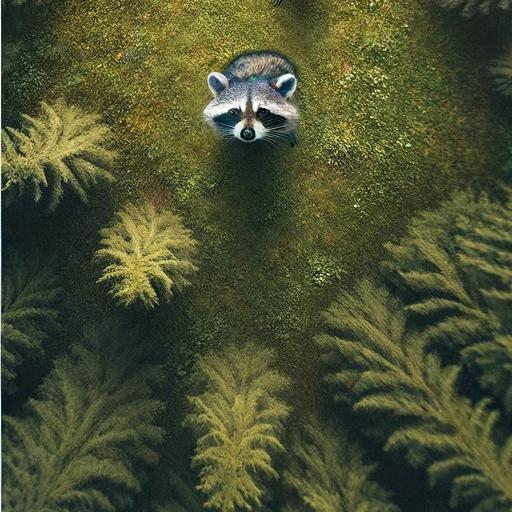raccoon: (193, 38, 310, 155)
